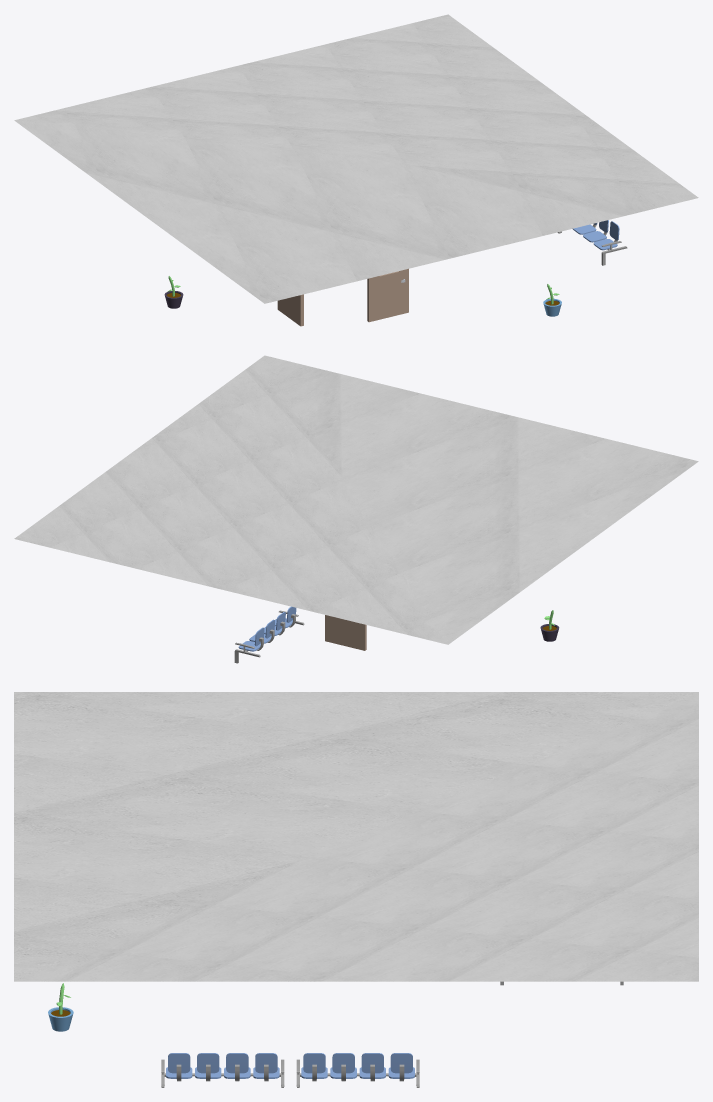
File: door.glb
3 renders of one model, top to bottom at view 1: azimuth 30°, elevation 25°; view 2: azimuth 150°, elevation 25°; view 3: azimuth 270°, elevation 25°, orthographic. The views are drawn at different scales.
Parts seen in each view (by area): view 1: Cube.009, Plane.002, Cube.010, Plane.003; view 2: Cube.009, Cube.011, Plane.001; view 3: Cube.009, Cube.010, Cylinder.001.
Part boxes in pixels (bbox=[...]): Cube.009: bbox=[14, 14, 698, 303]; Plane.002: bbox=[367, 268, 408, 322]; Cube.010: bbox=[557, 220, 627, 265]; Plane.003: bbox=[277, 294, 303, 326]; Cube.009: bbox=[14, 355, 698, 644]; Cube.011: bbox=[234, 606, 304, 663]; Plane.001: bbox=[325, 615, 366, 650]; Cube.009: bbox=[14, 692, 698, 981]; Cube.010: bbox=[161, 1053, 419, 1087]; Cylinder.001: bbox=[48, 983, 73, 1031].
Size of the model in its own units: 32.76 by 7.55 by 32.76.
Materials: 10 (1 with a texture image).
